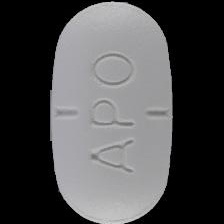10544-433: (0, 0, 224, 224)
